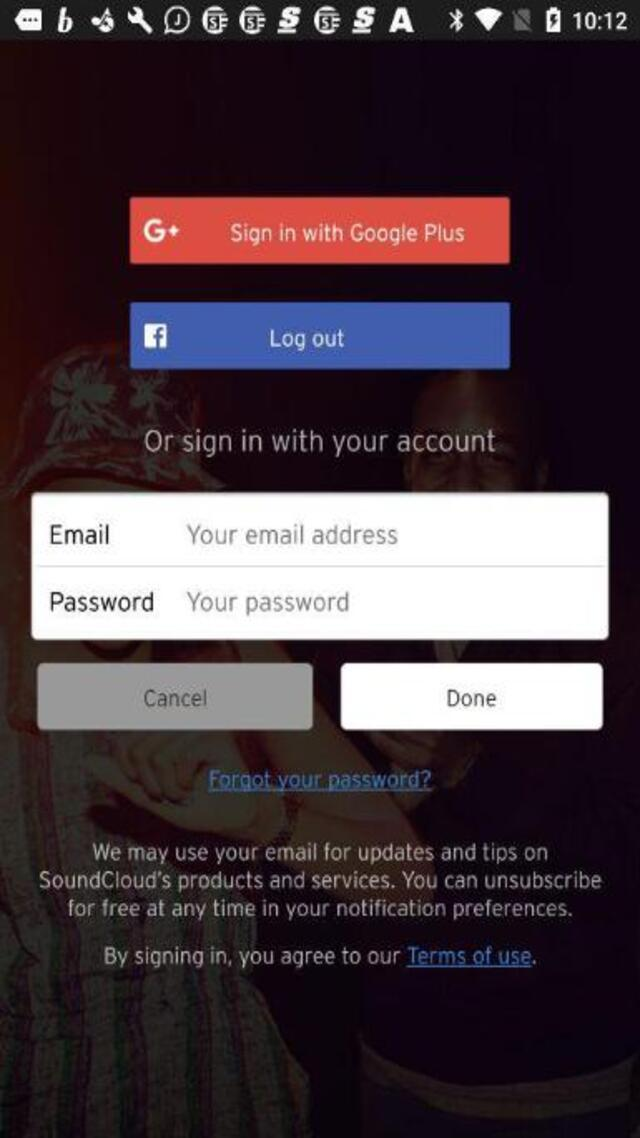Icon: (142, 216, 180, 244), (142, 321, 168, 349)
Text: (35, 869, 608, 894), (66, 897, 576, 923), (84, 842, 555, 867), (102, 945, 536, 968), (143, 429, 494, 457), (227, 221, 468, 247), (208, 768, 434, 790), (187, 523, 398, 544), (187, 591, 348, 616), (48, 590, 157, 615), (266, 326, 346, 354), (142, 686, 212, 712), (48, 520, 112, 547), (442, 683, 502, 710)
TextButton: (128, 195, 510, 264), (128, 300, 510, 368), (36, 662, 312, 728), (342, 662, 602, 728)
